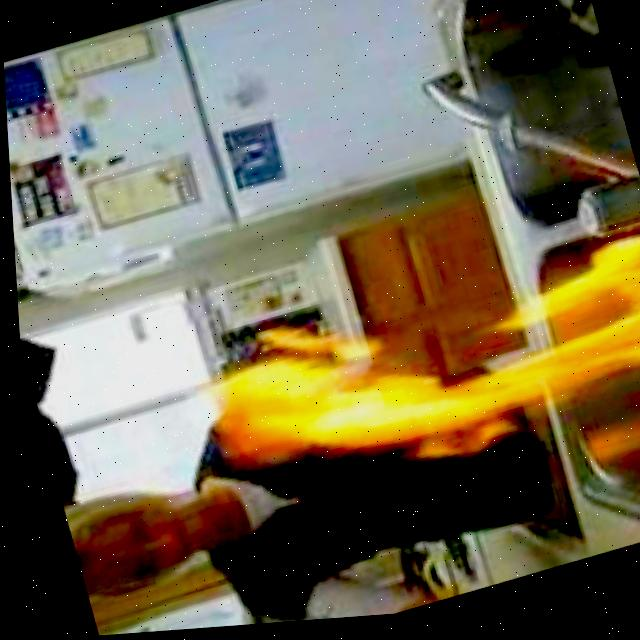Fire: (190, 236, 640, 527)
